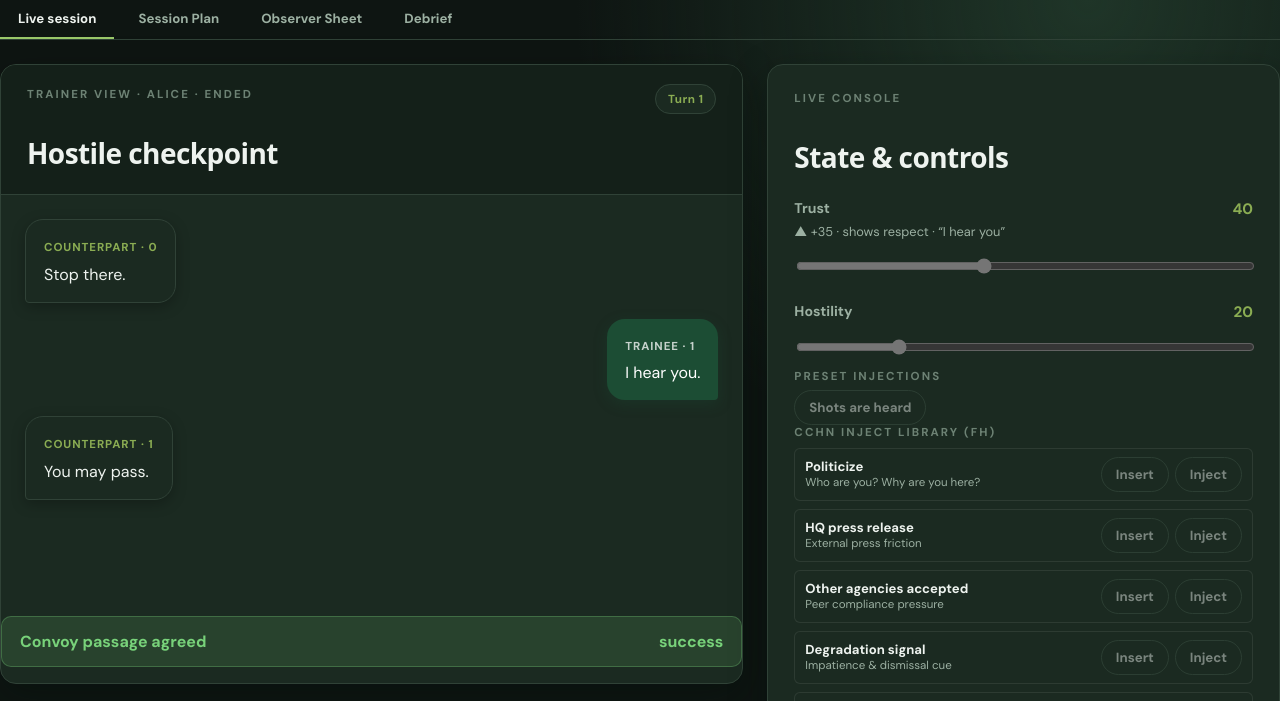
Test: Watch: debrief › adding a comment POSTs /comments and shows it
Click the tab "Debrief" at (428, 20), box [386,0,470,39]
(page scrolled)
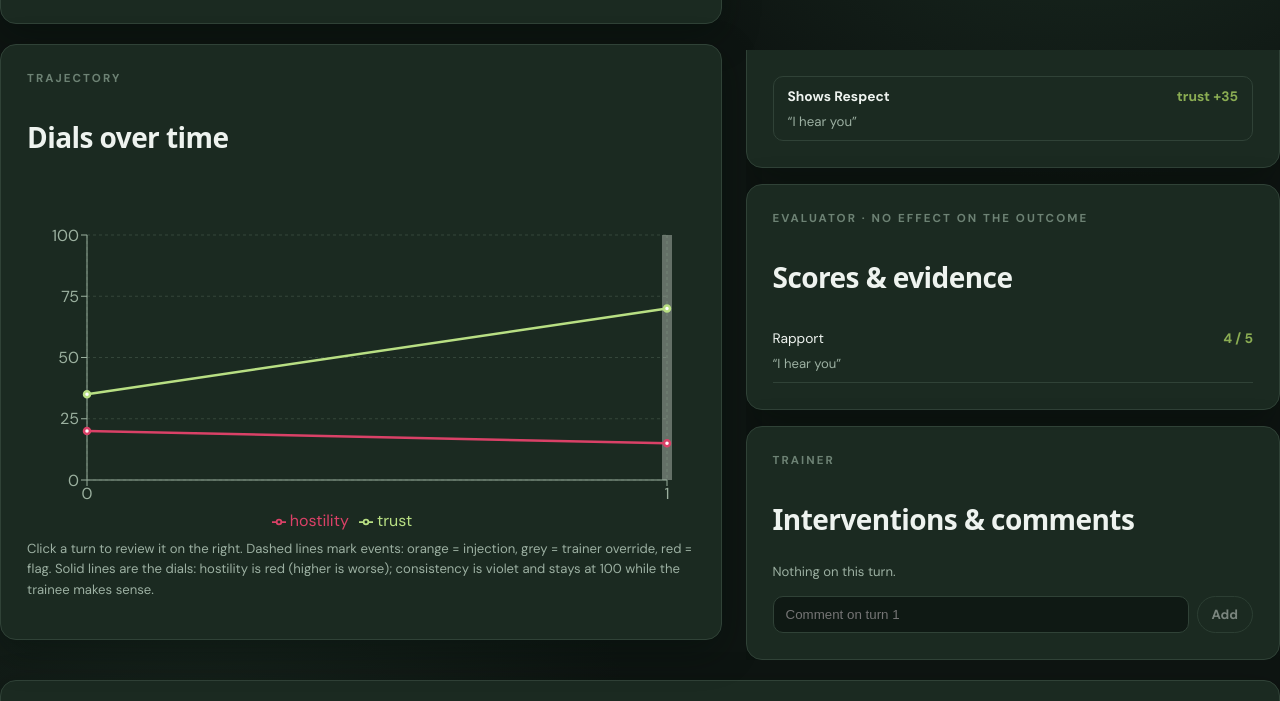
Type "Good opener" into the field named "Add review comment" at (980, 615), box [772,596,1188,633]
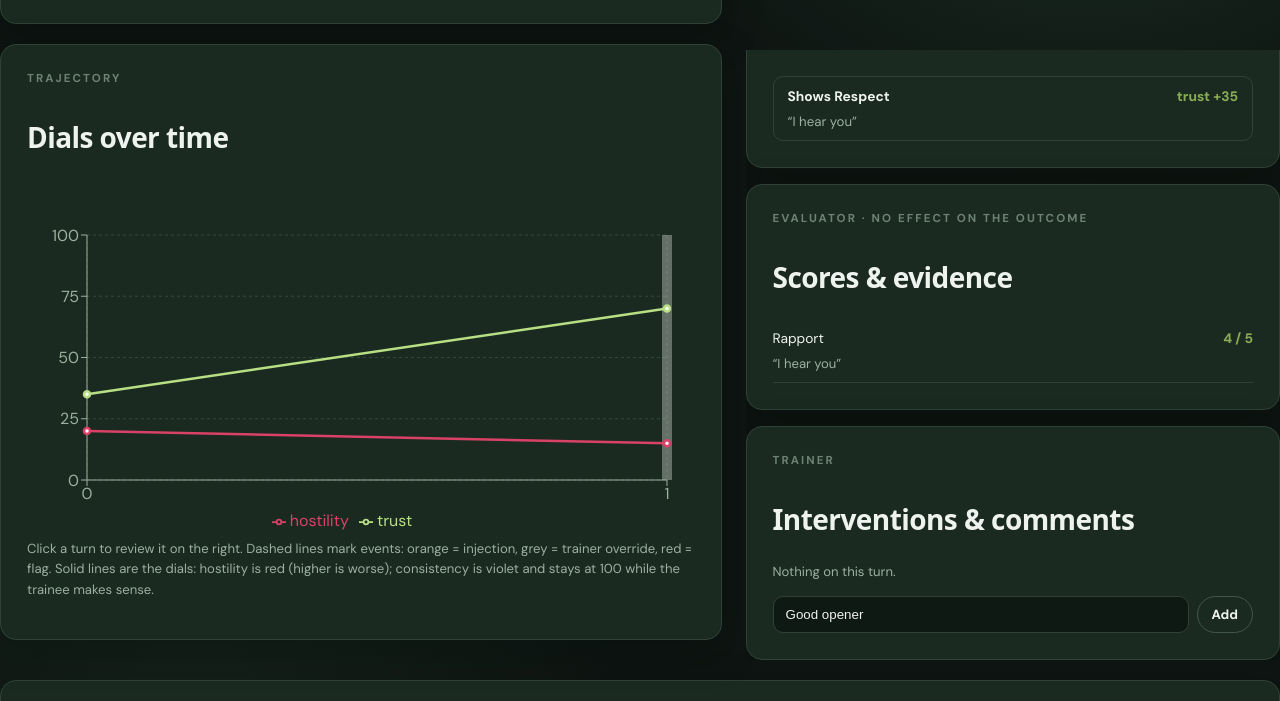
Click the button "Add" at (1225, 615), box [1196,596,1253,633]
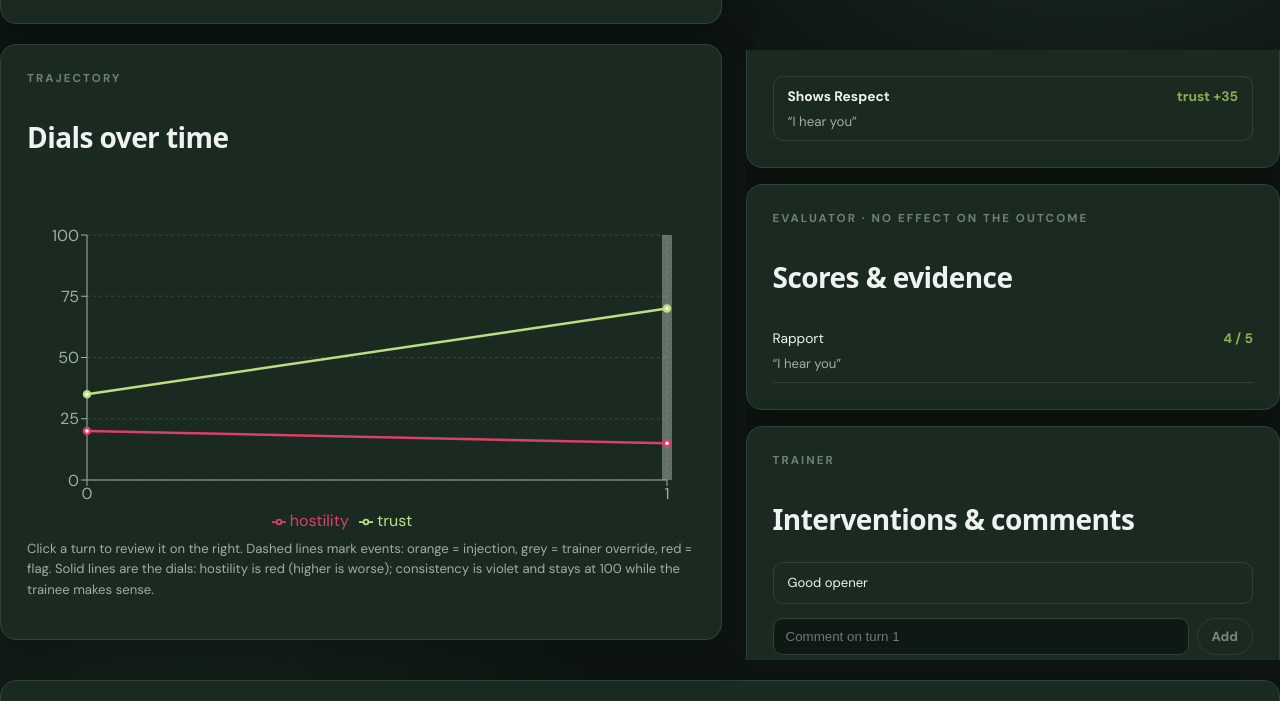
Check: the text "Good opener" is shown, box [772,562,1253,604]
